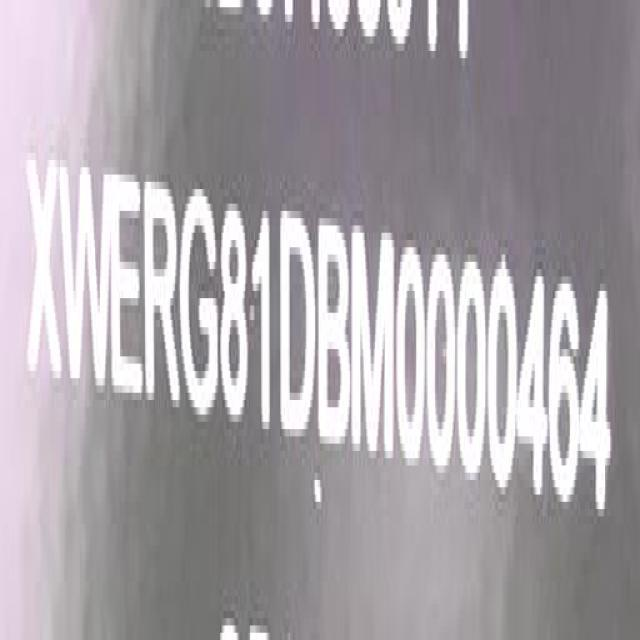0: (457, 248, 487, 485), (426, 248, 457, 477), (488, 256, 516, 493), (396, 245, 424, 463)
1: (252, 194, 271, 434)
4: (580, 272, 614, 528), (517, 258, 549, 504)
6: (550, 264, 580, 525)
8: (219, 202, 248, 436)
B: (318, 200, 350, 456)
D: (280, 216, 316, 439)
E: (111, 180, 144, 410)
G: (178, 191, 218, 423)
M: (350, 226, 396, 466)
R: (142, 167, 182, 436)
W: (60, 151, 113, 417)
X: (28, 143, 63, 407)
